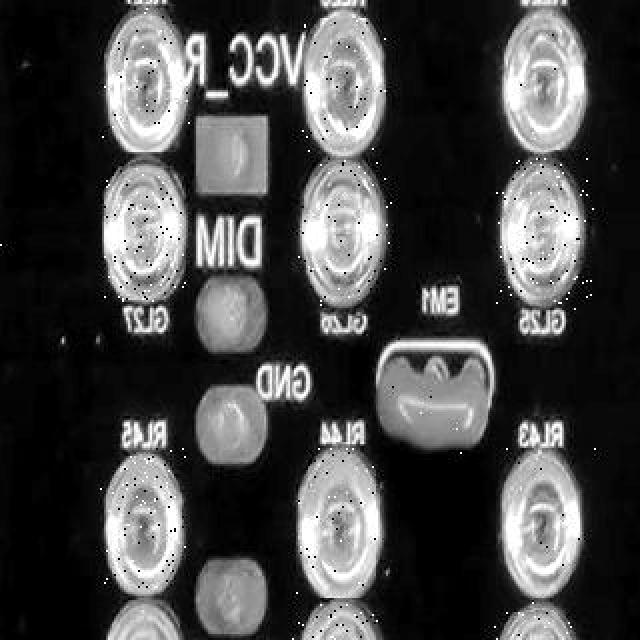EMC filter: (372, 332, 492, 456)
led: (486, 0, 602, 150), (496, 449, 596, 609), (494, 158, 596, 310), (292, 158, 392, 310), (100, 6, 192, 154), (100, 445, 188, 593), (296, 444, 376, 598), (302, 18, 386, 158), (102, 166, 186, 302), (304, 166, 370, 318), (292, 604, 384, 640), (104, 600, 180, 640), (494, 612, 594, 640)
